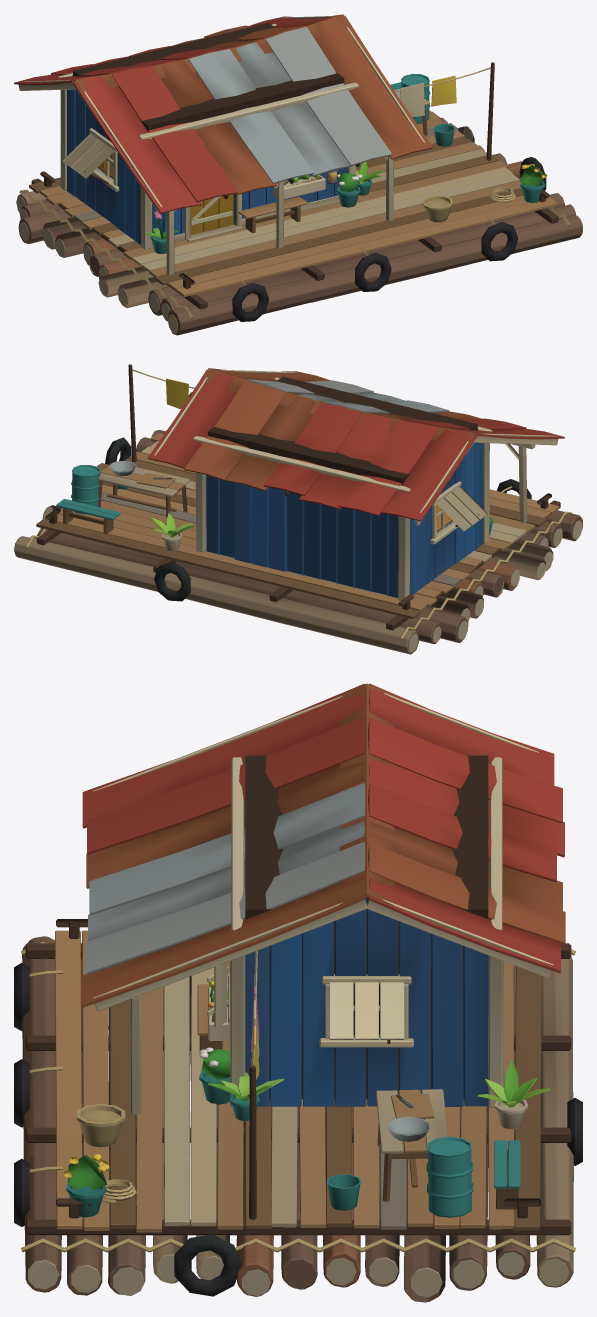
Rendered from floating_house-Dyohoevc.glb.
The picture shows the model from 3 angles, top to bottom: view 1: azimuth 30°, elevation 25°; view 2: azimuth 150°, elevation 25°; view 3: azimuth 270°, elevation 25°; orthographic projection. The views are drawn at different scales.
Parts seen in each view (by area): view 1: floating_house; view 2: floating_house; view 3: floating_house.
Part boxes in pixels (x1,y1,x2,y2): floating_house: (14, 14, 582, 335); floating_house: (14, 364, 582, 654); floating_house: (14, 683, 582, 1302).
Size of the model in its own units: 10.63 by 4.3 by 7.49.
